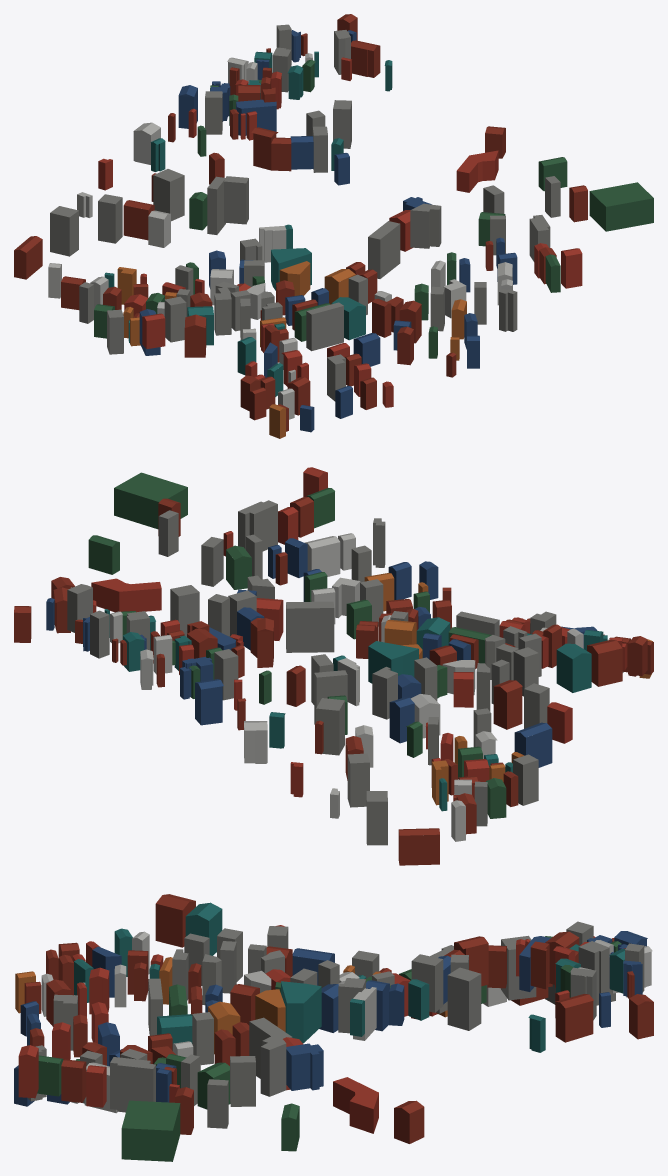
File: near-17-109430-59476.27f0f6c7.glb
3 renders of one model, top to bottom at view 1: azimuth 30°, elevation 25°; view 2: azimuth 150°, elevation 25°; view 3: azimuth 270°, elevation 25°, orthographic. The views are drawn at different scales.
Bounding box in the file's own units: 310 × 115 × 298.
